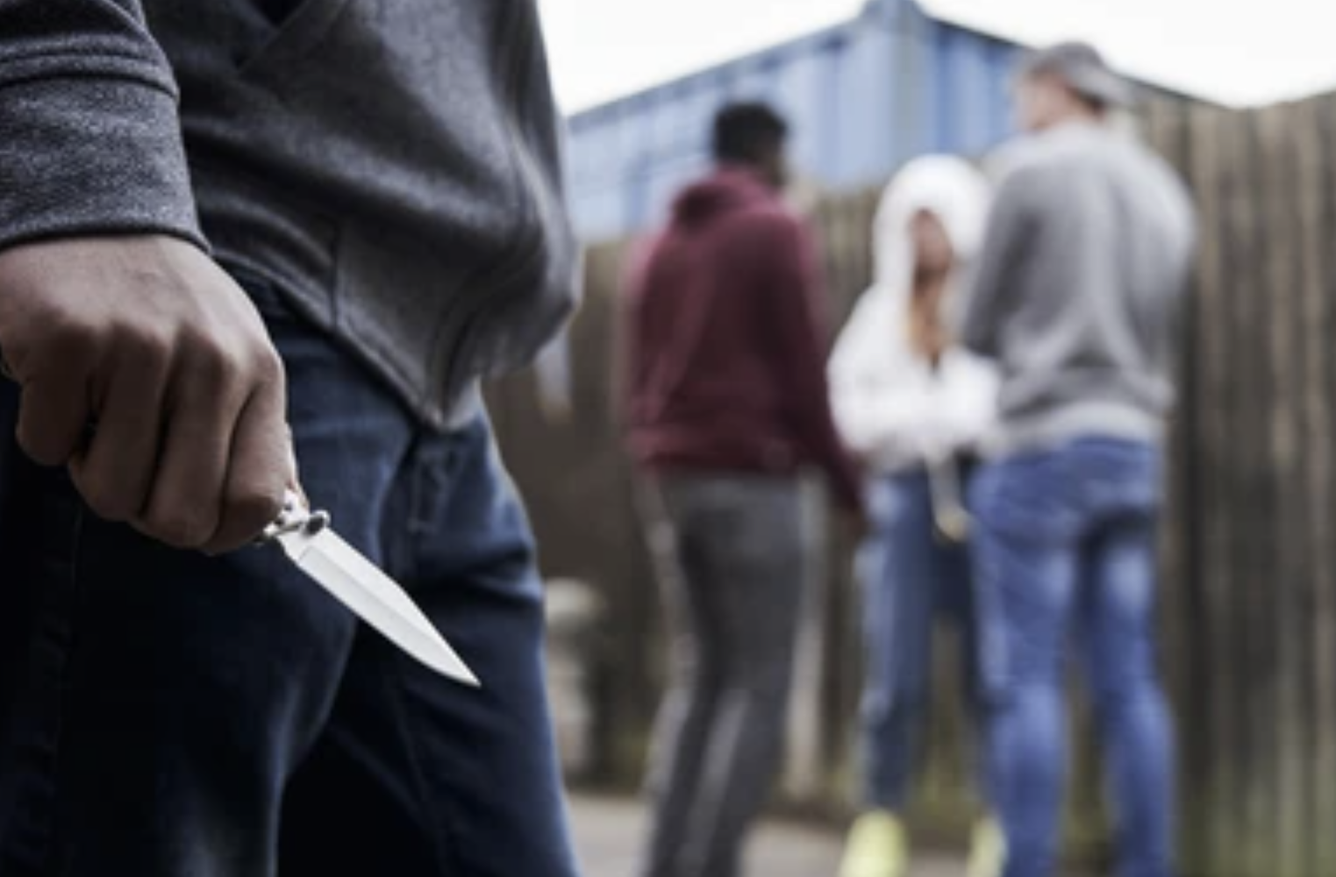knife_64.png: (225, 481, 503, 699)
